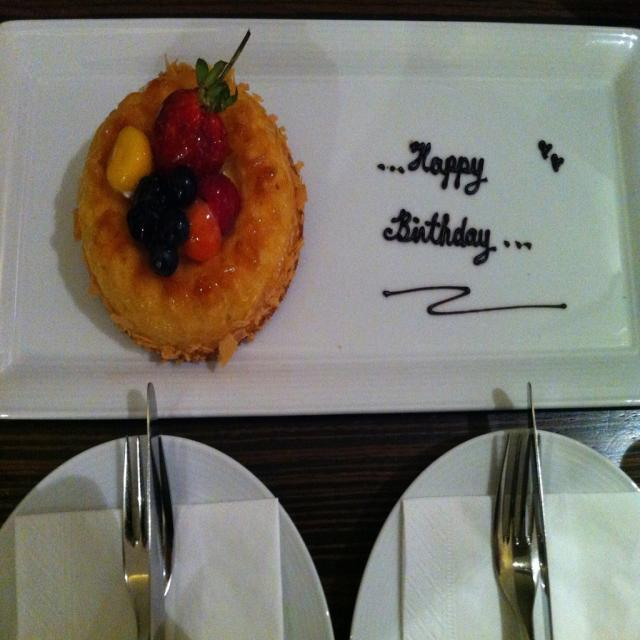non-organic waste: (7, 15, 640, 408), (12, 423, 356, 640), (315, 411, 635, 640)
